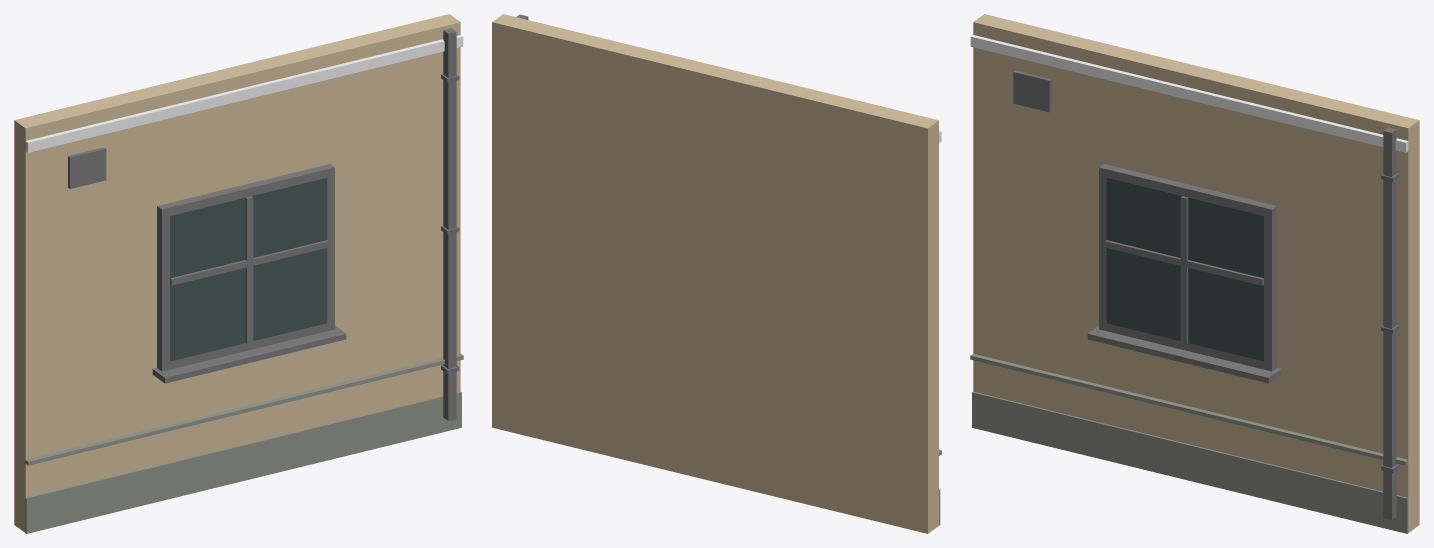
File: mid-w1_close.fbx
The picture shows the model from 3 angles, left to right: view 1: azimuth 30°, elevation 25°; view 2: azimuth 150°, elevation 25°; view 3: azimuth 330°, elevation 25°; orthographic projection.
Visible parts, largest first — view 1: a2014/0/mid-w1_close; view 2: a2014/0/mid-w1_close; view 3: a2014/0/mid-w1_close.
Part boxes in pixels (x1=…): a2014/0/mid-w1_close: x1=14, y1=14, x2=463, y2=533; a2014/0/mid-w1_close: x1=492, y1=14, x2=941, y2=533; a2014/0/mid-w1_close: x1=970, y1=14, x2=1419, y2=533.
Size of the model in its own units: 3.6 by 3.2 by 0.34.
